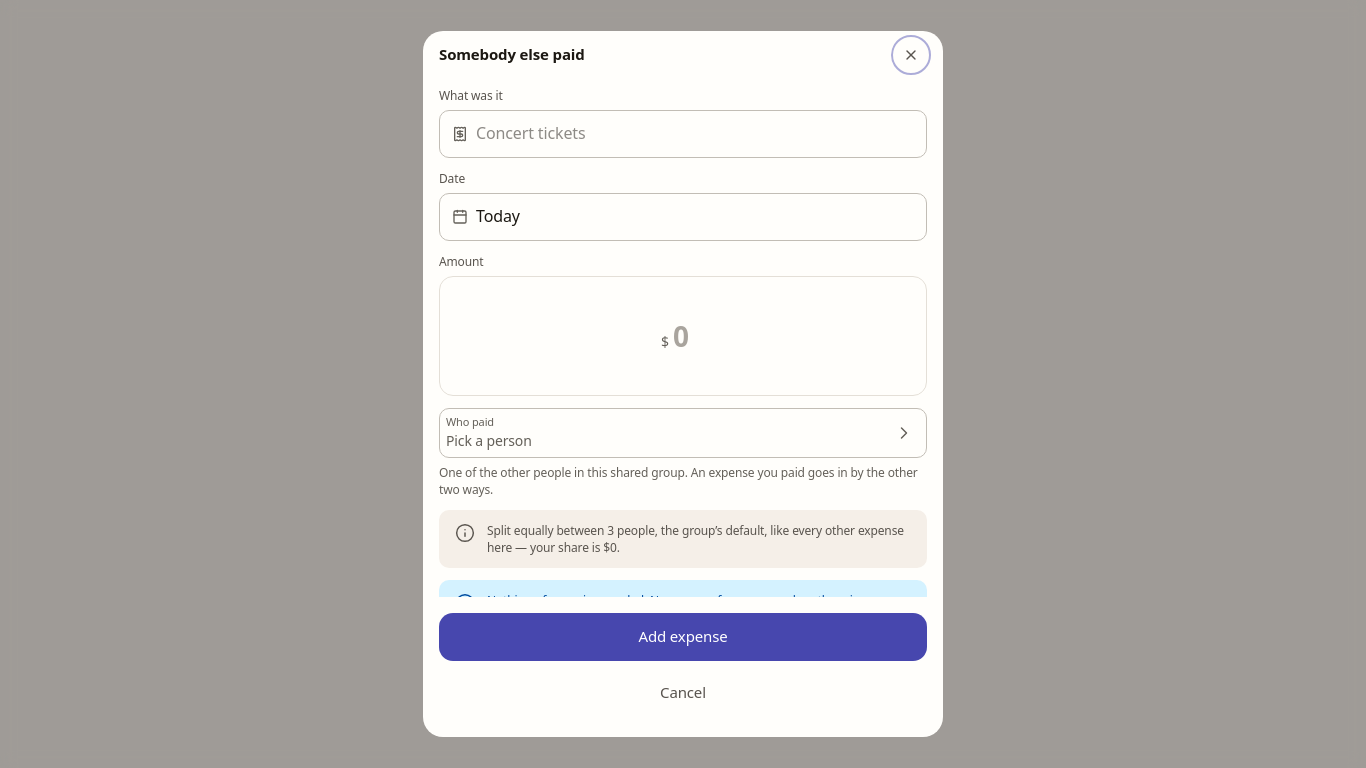
it: recording a line somebody else paid › refuses a line with no description and one with nobody who paid it
Type "90000" into the field labelled "Amount" at (689, 336), box [673,317,705,355]
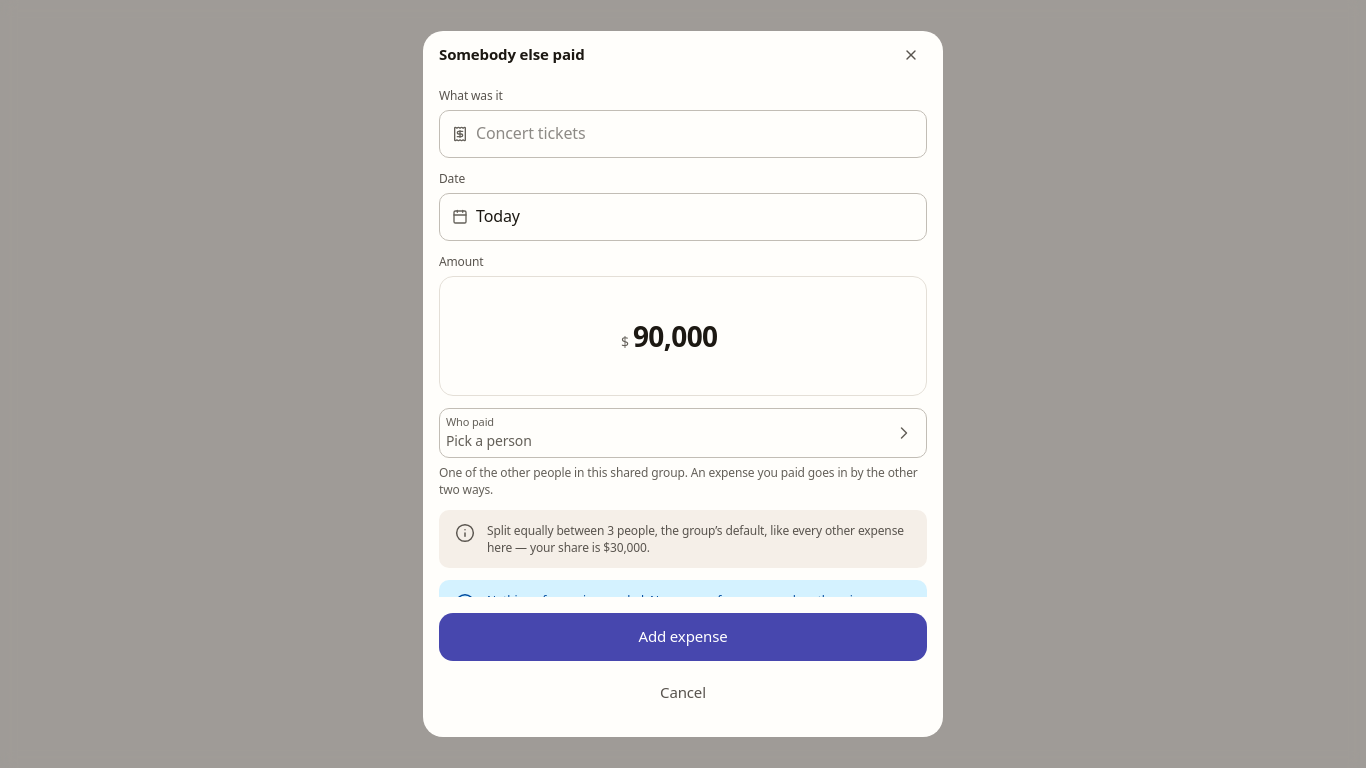
Click the 1st button named "Add expense" at (683, 637), box [439,613,927,661]
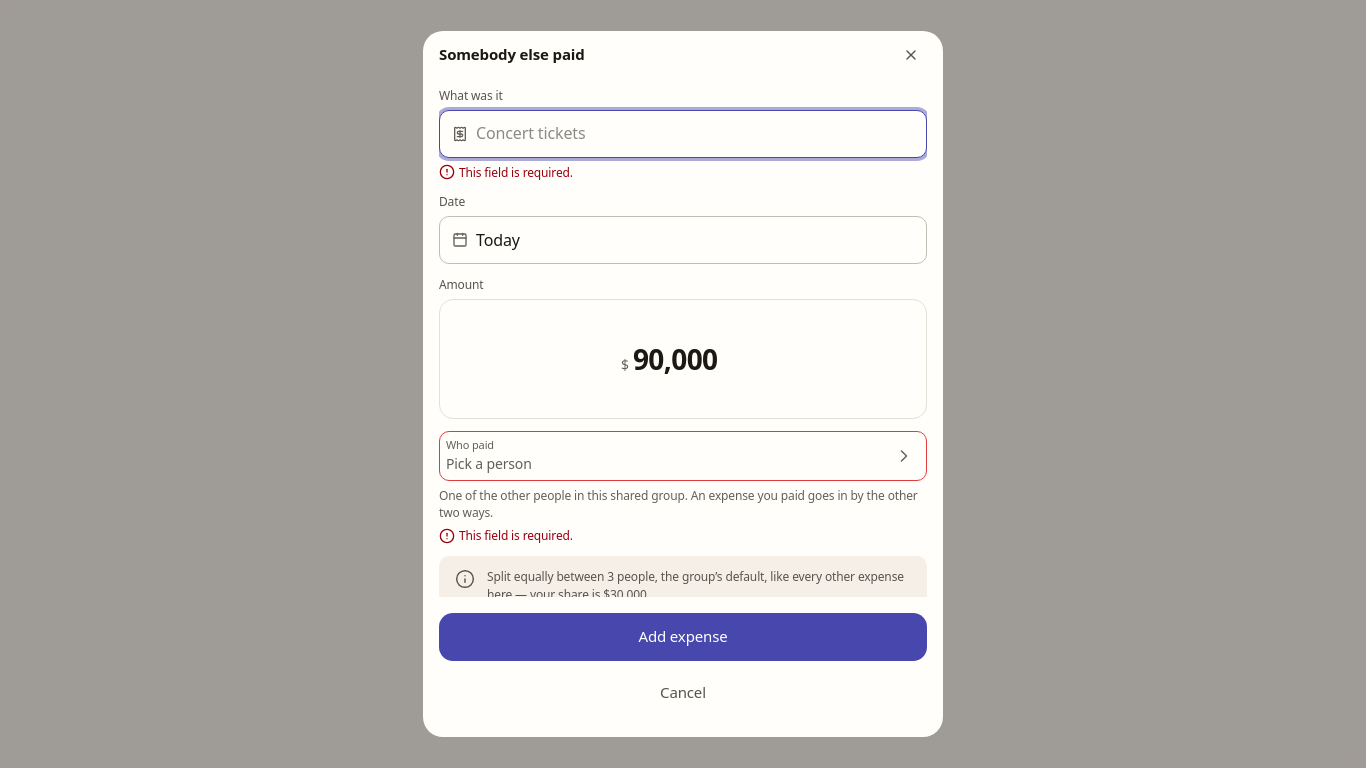
Now the text "This field is required." is shown 2 times, box [439,164,573,181]; [439,527,573,544]
